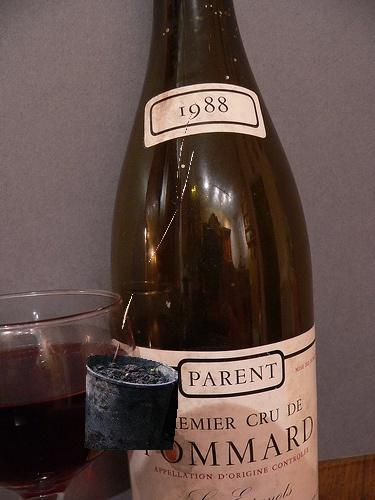tampered: (85, 101, 196, 450)
